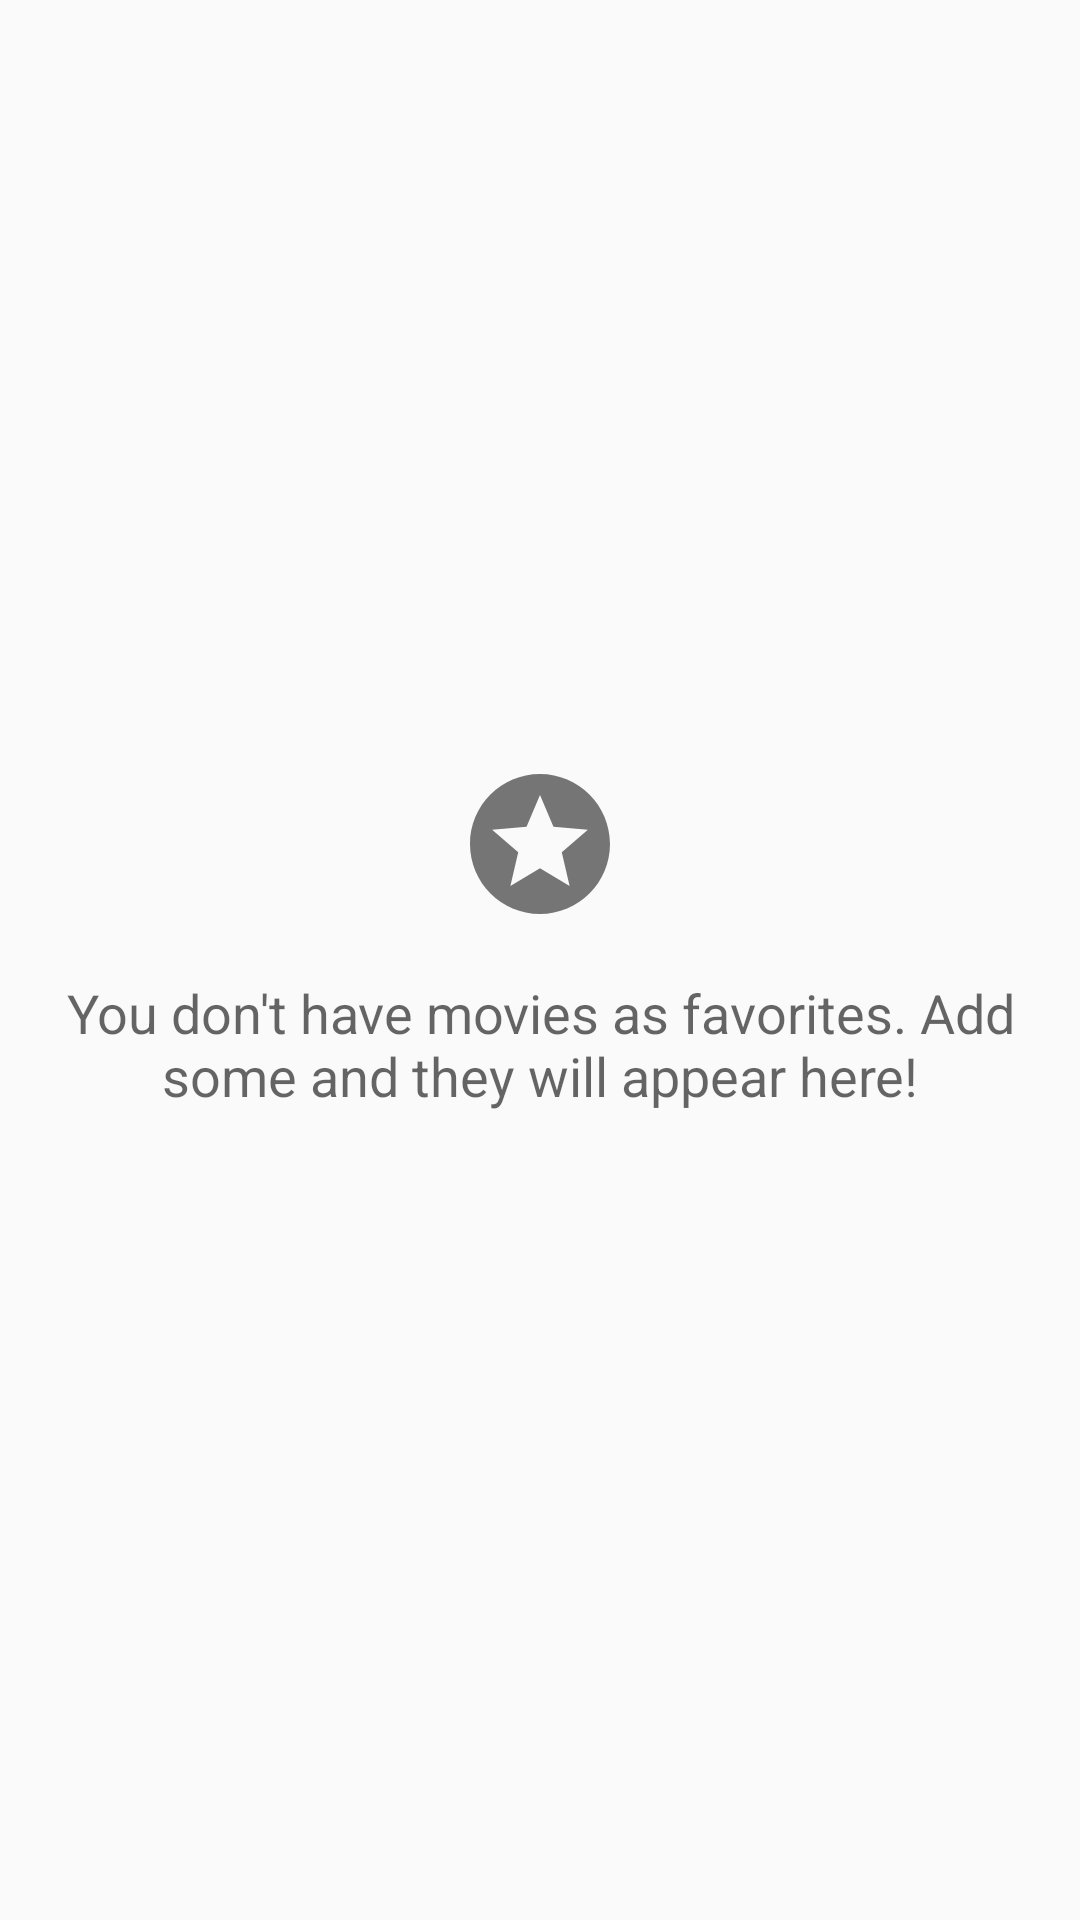

Icons on this 1080×1920 Android screen, each with its box as (x1, y1, x2, y2):
stars: (470, 774, 610, 914)
